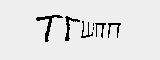Г: (63, 14, 79, 46)
П: (107, 20, 125, 41), (93, 19, 106, 41)
Т: (34, 12, 63, 46)
Ш: (80, 19, 95, 40)
